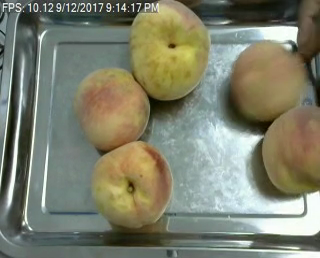Peach: (128, 0, 208, 101), (92, 141, 172, 230), (74, 67, 150, 151), (232, 41, 305, 121), (261, 105, 320, 194)
